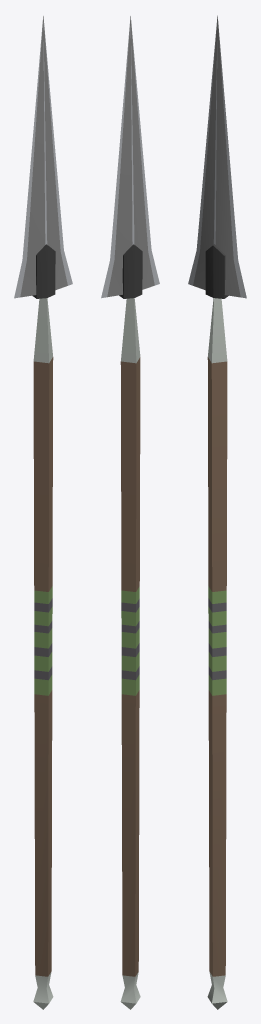
The model's file is Spear_3.fbx.
3 views of the same model, side by side, from view 1: azimuth 30°, elevation 25°; view 2: azimuth 210°, elevation 25°; view 3: azimuth 330°, elevation 25° (orthographic).
Parts seen in each view (by area): view 1: polySurface218; view 2: polySurface218; view 3: polySurface218.
Part boxes in pixels (<box>): polySurface218: <box>14,16,72,1009</box>; polySurface218: <box>101,16,159,1009</box>; polySurface218: <box>188,15,246,1009</box>.
Size of the model in its own units: 35.09 by 567 by 12.
